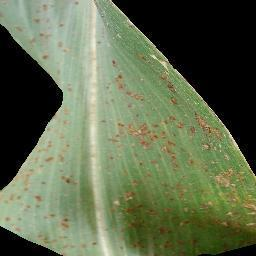Corn_Common_Rust: (0, 99, 256, 256), (3, 1, 211, 99)
